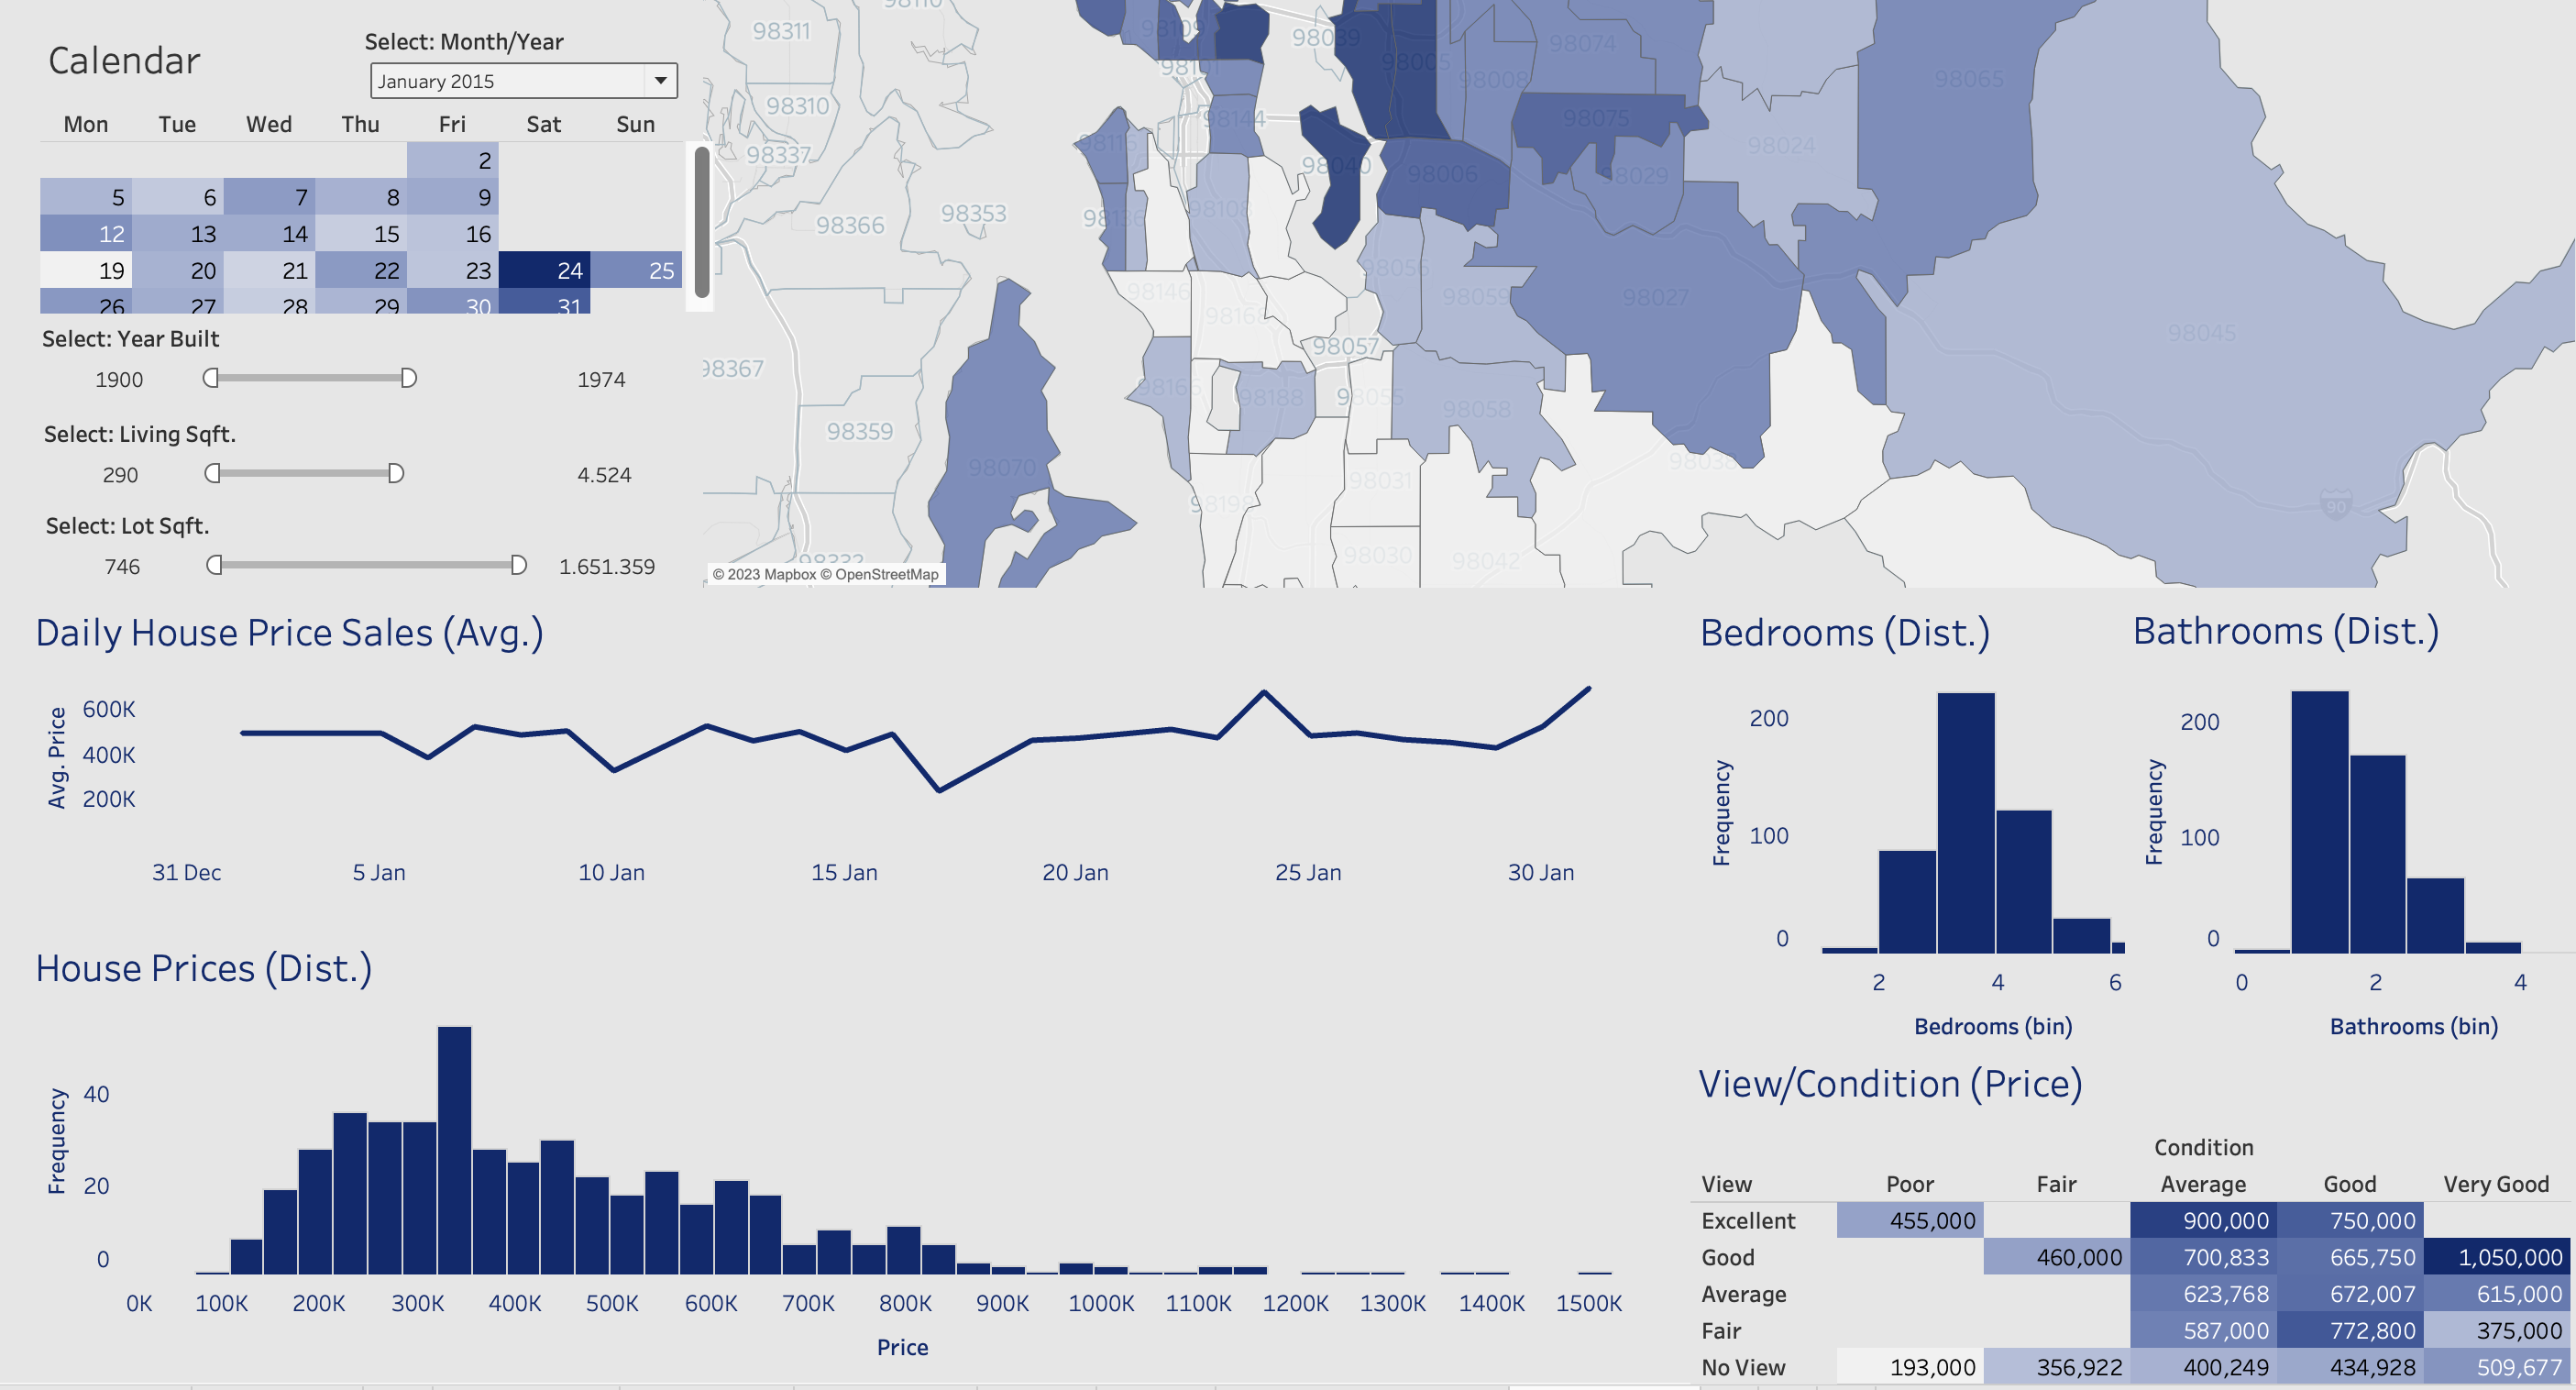

This screenshot's page, from the dashboard's own definition file:
{"tool":"tableau","page":{"name":"HouseSalesDashboard","canvas":[1000,1000],"units":"permille","ordinal":0},"visuals":[{"type":"text","box":[5.8,10.4,188,54.7]},{"type":"text","box":[193.8,10.4,800.5,54.7]},{"type":"blank","box":[5.8,65.1,188,13]},{"type":"blank","box":[193.8,65.1,800.5,13]},{"type":"filter","title":"Calendar","param":"[federated.1q1gs9513awccd1ajrgbm1bpk5w9].[my:date:ok]","box":[5.8,78.1,188,91.2]},{"type":"worksheet","title":"DailyAvgSales","mark":"Automatic","rows":["price"],"cols":["date"],"box":[193.8,78.1,388,421.9]},{"type":"worksheet","title":"Map","mark":"Automatic","box":[581.8,78.1,412.5,421.9]},{"type":"worksheet","title":"Calendar","mark":"Square","rows":["date"],"cols":["date"],"box":[5.8,169.3,188,315.1]},{"type":"filter","title":"Calendar","param":"[federated.1q1gs9513awccd1ajrgbm1bpk5w9].[none:yr_built:qk]","box":[5.8,484.4,188,78.1]},{"type":"worksheet","title":"HistHousePrice","mark":"Automatic","rows":["price"],"cols":["Price (bin)"],"box":[193.8,500,391.8,244.8]},{"type":"worksheet","title":"Heatmap","mark":"Square","rows":["view"],"cols":["condition"],"box":[585.5,500,408.7,244.8]},{"type":"filter","title":"Calendar","param":"[federated.1q1gs9513awccd1ajrgbm1bpk5w9].[none:sqft_living:qk]","box":[5.8,562.5,188,78.1]},{"type":"filter","title":"Calendar","param":"[federated.1q1gs9513awccd1ajrgbm1bpk5w9].[none:sqft_lot:qk]","box":[5.8,640.6,188,78.1]},{"type":"worksheet","title":"HistBedrooms","mark":"Automatic","rows":["bedrooms"],"cols":["Bedrooms (bin)"],"box":[193.8,744.8,391.8,244.8]},{"type":"worksheet","title":"HistBathrooms","mark":"Automatic","rows":["bathrooms"],"cols":["Bathrooms (bin)"],"box":[585.5,744.8,408.7,244.8]}]}

Visuals, with their boxes on the dashboard's canvas, which has no fixed pixel size, in thousandths of its width and height (x1, y1, x2, y2). These are canvas units, not pixel positions in the 2576x1390 screenshot, which may show the page scaled, cropped or inside an application window:
text: 6, 10, 194, 65
text: 194, 10, 994, 65
blank: 6, 65, 194, 78
blank: 194, 65, 994, 78
"Calendar" filter: 6, 78, 194, 169
"DailyAvgSales" worksheet: 194, 78, 582, 500
"Map" worksheet: 582, 78, 994, 500
"Calendar" worksheet (Square marks): 6, 169, 194, 484
"Calendar" filter: 6, 484, 194, 562
"HistHousePrice" worksheet: 194, 500, 586, 745
"Heatmap" worksheet (Square marks): 586, 500, 994, 745
"Calendar" filter: 6, 562, 194, 641
"Calendar" filter: 6, 641, 194, 719
"HistBedrooms" worksheet: 194, 745, 586, 990
"HistBathrooms" worksheet: 586, 745, 994, 990
